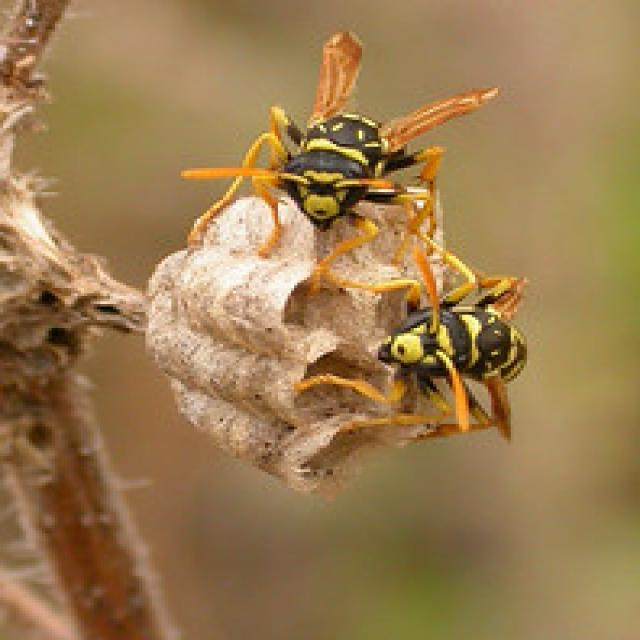Guepe: (180, 22, 496, 256), (326, 262, 540, 478)
